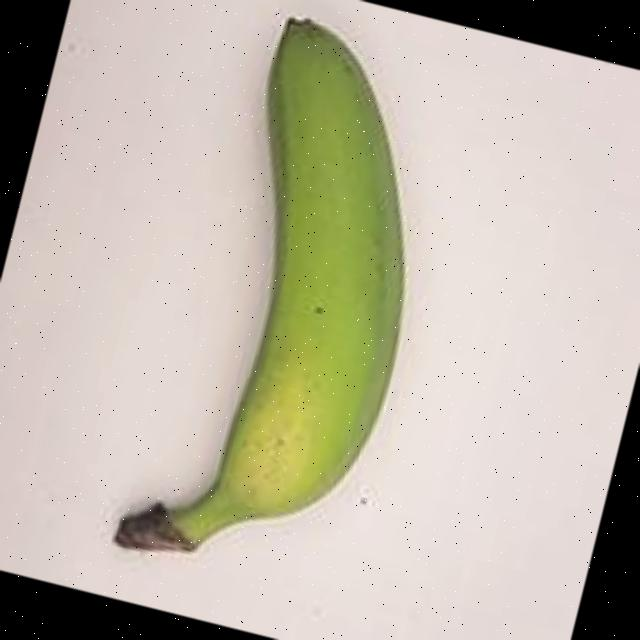Unripe: (74, 0, 514, 631)
